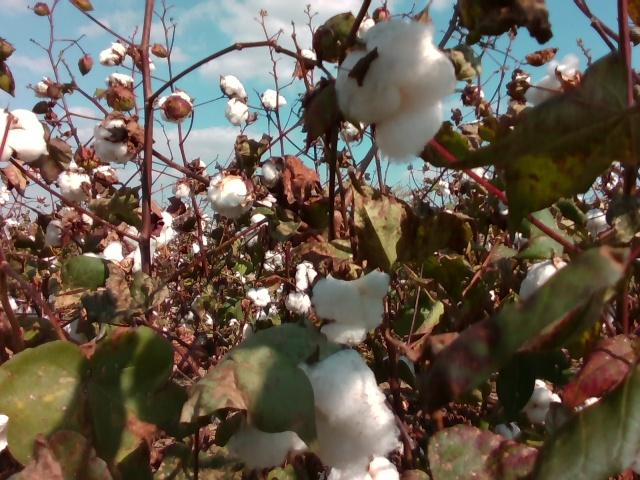cotton_ready: (225, 347, 404, 479), (335, 20, 458, 166), (311, 270, 392, 343), (525, 55, 580, 109), (0, 110, 51, 162), (519, 260, 574, 304), (329, 456, 406, 480), (209, 174, 254, 214), (522, 377, 562, 422), (94, 119, 131, 161), (58, 168, 93, 201)
